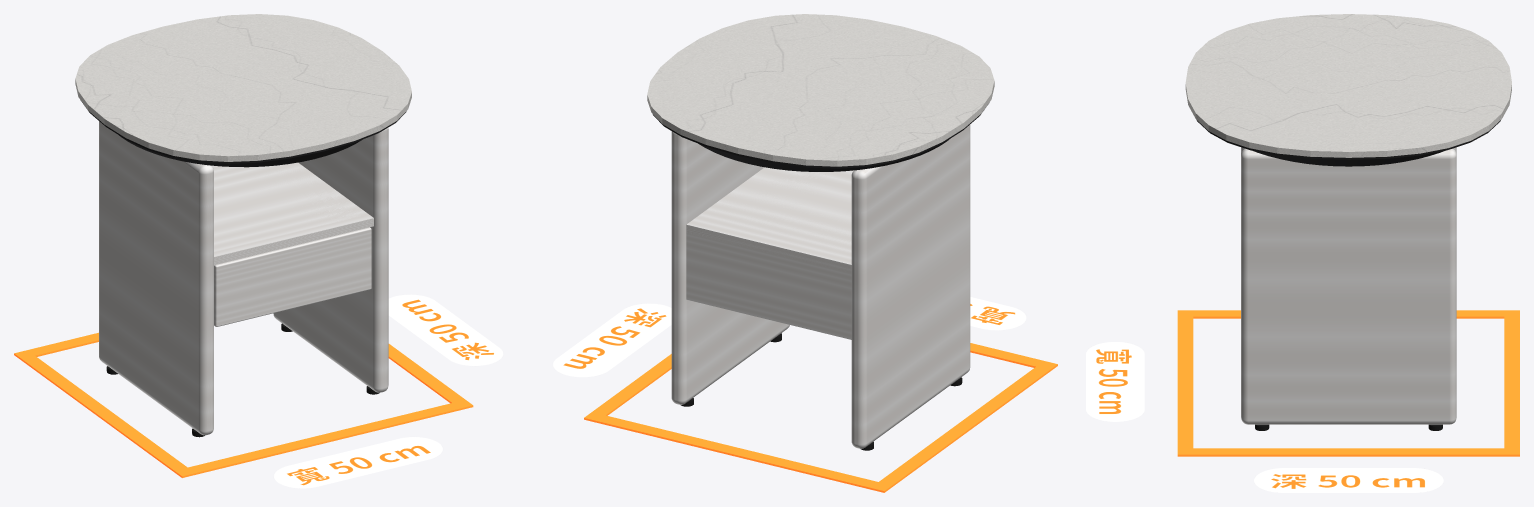
File: ownTawu-f.glb
The picture shows the model from 3 angles, left to right: view 1: azimuth 30°, elevation 25°; view 2: azimuth 150°, elevation 25°; view 3: azimuth 270°, elevation 25°; orthographic projection. The views are drawn at different scales.
Visible parts, largest first — view 1: object 1, object 4, ar-frame, object 7, object 13, object 10, object 11, object 3, object 2; view 2: object 1, object 4, object 10, ar-frame, object 7, object 11, object 3, object 2; view 3: object 7, object 1, ar-frame, object 3, object 2.
Boxes of the visible parts, x1,y1,x2,y2 form: object 1: [75, 14, 411, 161]; object 4: [99, 121, 213, 435]; ar-frame: [14, 294, 503, 488]; object 7: [273, 128, 388, 392]; object 13: [214, 227, 371, 326]; object 10: [212, 162, 367, 251]; object 11: [214, 162, 373, 265]; object 3: [119, 135, 362, 167]; object 2: [80, 100, 406, 163]; object 1: [647, 14, 994, 166]; object 4: [851, 124, 970, 448]; object 10: [686, 167, 851, 339]; ar-frame: [553, 297, 1057, 492]; object 7: [671, 131, 789, 404]; object 11: [686, 170, 853, 272]; object 3: [698, 139, 949, 171]; object 2: [653, 104, 988, 168]; object 7: [1241, 148, 1456, 424]; object 1: [1185, 14, 1511, 157]; ar-frame: [1086, 310, 1519, 492]; object 3: [1253, 151, 1443, 166]; object 2: [1196, 120, 1500, 159].
Size of the model in its own units: 0.6645 by 0.51 by 0.6645.
Materials: 8 (4 with a texture image).
